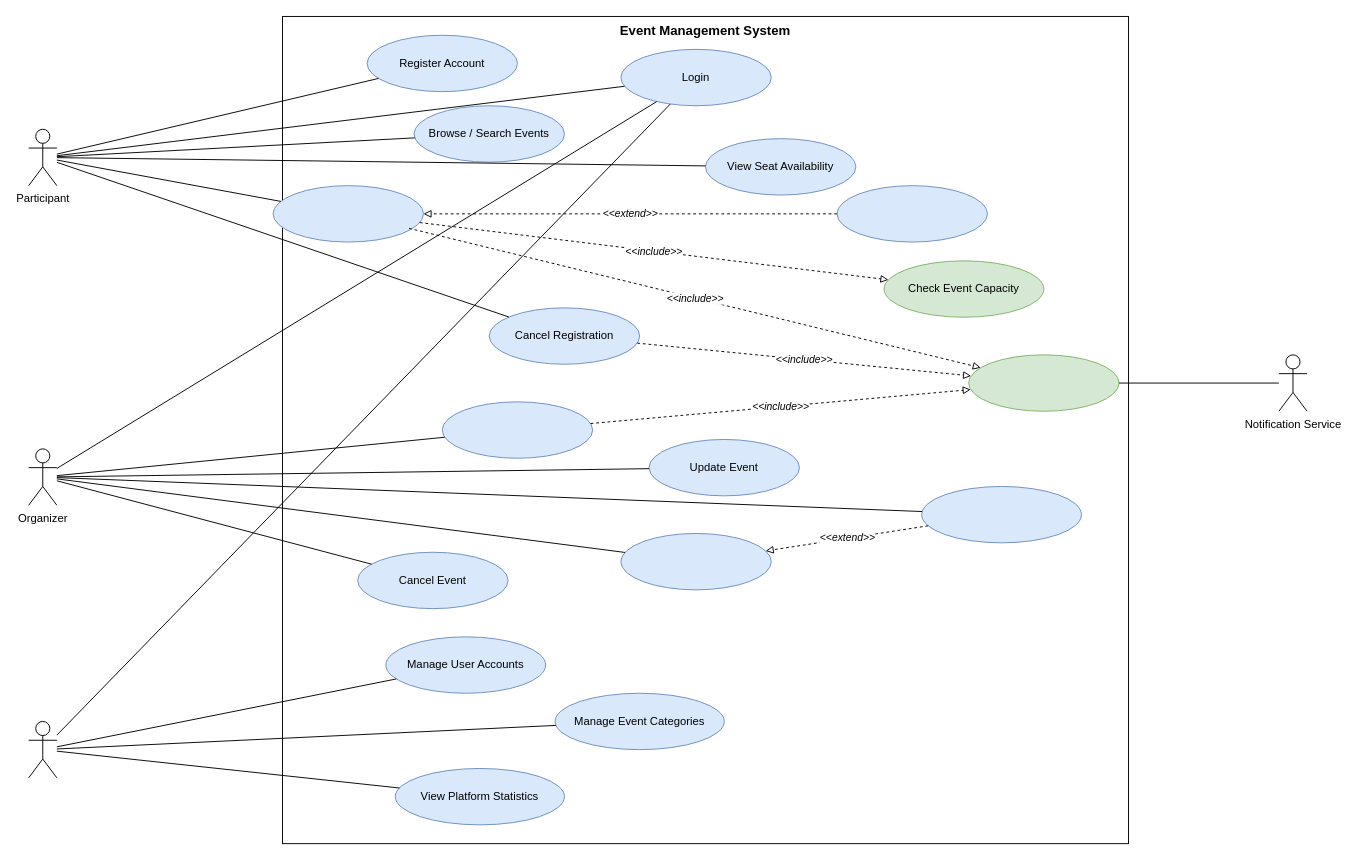
The diagram is 1357 pixels wide and 860 high, and some of its shapes have lost their labels. The shapes that lost their labels are listed below. From the top down, each one's centre as x and y in pixels, then its label:
At (347,213): "Register for Event".
At (911,213): "Join Waitlist".
At (1043,382): "Send Notification".
At (517,429): "Create Event".
At (1001,514): "Export Participant List".
At (695,561): "View Registrants".
At (42,749): "Admin".
